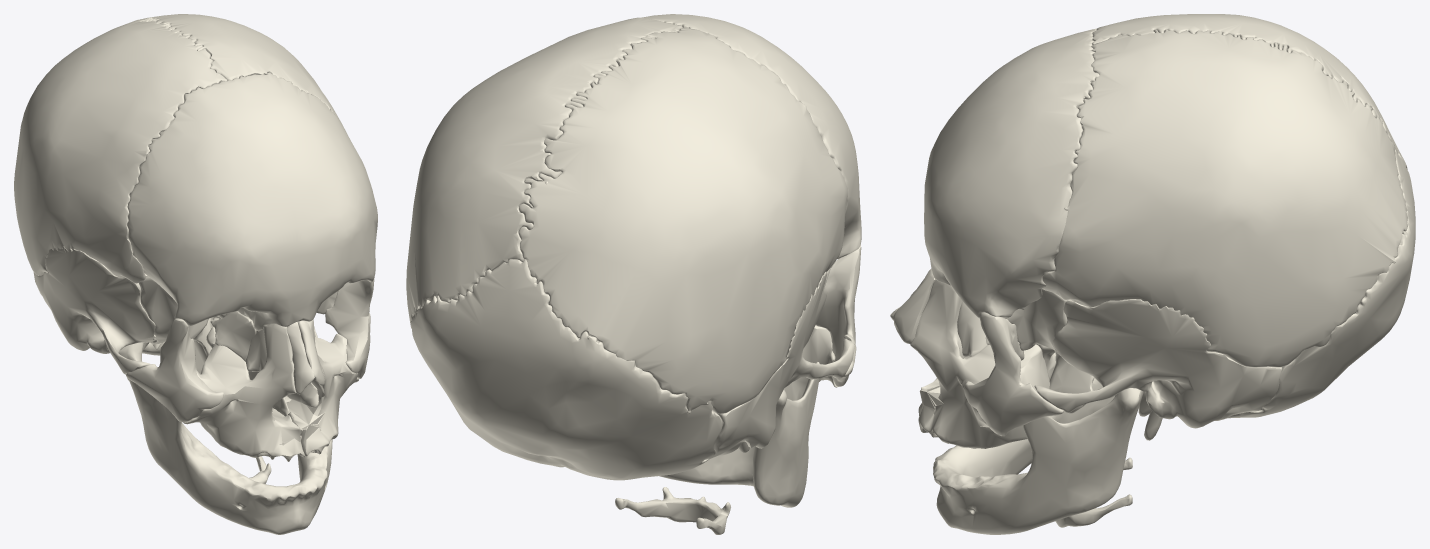
The model's file is skull.glb.
3 views of the same model, side by side, from view 1: azimuth 30°, elevation 25°; view 2: azimuth 150°, elevation 25°; view 3: azimuth 270°, elevation 25° (orthographic). The views are drawn at different scales.
Visible parts, largest first — view 1: bp3d_FMA52734_FJ3200, bp3d_FMA52788_FJ3380, bp3d_FMA52748_FJ3289, bp3d_FMA53649_FJ3375, bp3d_FMA52738_FJ3386, bp3d_FMA52789_FJ3274, bp3d_FMA52892_FJ3392, bp3d_FMA53650_FJ3269, bp3d_FMA52893_FJ3287, bp3d_FMA52736_FJ3394, bp3d_FMA52740_FJ3199, bp3d_FMA53647_FJ3378 (+3 smaller); view 2: bp3d_FMA52788_FJ3380, bp3d_FMA52735_FJ3309, bp3d_FMA52789_FJ3274, bp3d_FMA52734_FJ3200, bp3d_FMA52748_FJ3289, bp3d_FMA52738_FJ3386, bp3d_FMA52892_FJ3392, bp3d_FMA52749_FJ3201, bp3d_FMA53649_FJ3375; view 3: bp3d_FMA52789_FJ3274, bp3d_FMA52734_FJ3200, bp3d_FMA52748_FJ3289, bp3d_FMA52739_FJ3281, bp3d_FMA53650_FJ3269, bp3d_FMA52735_FJ3309, bp3d_FMA52788_FJ3380, bp3d_FMA52893_FJ3287, bp3d_FMA52736_FJ3394, bp3d_FMA53648_FJ3272, bp3d_FMA53646_FJ3265, bp3d_FMA52749_FJ3201.
Boxes of the visible parts, <box> form: bp3d_FMA52734_FJ3200: <box>127,72,377,331</box>; bp3d_FMA52788_FJ3380: <box>14,18,227,283</box>; bp3d_FMA52748_FJ3289: <box>118,326,332,534</box>; bp3d_FMA53649_FJ3375: <box>183,324,304,461</box>; bp3d_FMA52738_FJ3386: <box>33,246,155,380</box>; bp3d_FMA52789_FJ3274: <box>139,14,349,138</box>; bp3d_FMA52892_FJ3392: <box>126,318,223,422</box>; bp3d_FMA53650_FJ3269: <box>273,319,358,456</box>; bp3d_FMA52893_FJ3287: <box>325,277,374,378</box>; bp3d_FMA52736_FJ3394: <box>139,275,347,374</box>; bp3d_FMA52740_FJ3199: <box>210,311,256,361</box>; bp3d_FMA53647_FJ3378: <box>287,322,314,394</box>; bp3d_FMA52788_FJ3380: <box>518,26,847,413</box>; bp3d_FMA52735_FJ3309: <box>410,259,722,480</box>; bp3d_FMA52789_FJ3274: <box>406,17,682,328</box>; bp3d_FMA52734_FJ3200: <box>643,14,861,258</box>; bp3d_FMA52748_FJ3289: <box>659,362,819,507</box>; bp3d_FMA52738_FJ3386: <box>706,267,854,459</box>; bp3d_FMA52892_FJ3392: <box>815,244,861,386</box>; bp3d_FMA52749_FJ3201: <box>615,487,730,534</box>; bp3d_FMA53649_FJ3375: <box>784,325,837,400</box>; bp3d_FMA52789_FJ3274: <box>1042,29,1407,367</box>; bp3d_FMA52734_FJ3200: <box>924,28,1099,317</box>; bp3d_FMA52748_FJ3289: <box>933,378,1143,534</box>; bp3d_FMA52739_FJ3281: <box>1034,299,1282,440</box>; bp3d_FMA53650_FJ3269: <box>910,280,1049,448</box>; bp3d_FMA52735_FJ3309: <box>1226,149,1415,418</box>; bp3d_FMA52788_FJ3380: <box>1092,14,1407,169</box>; bp3d_FMA52893_FJ3287: <box>964,312,1063,435</box>; bp3d_FMA52736_FJ3394: <box>1005,289,1094,413</box>; bp3d_FMA53648_FJ3272: <box>893,268,935,343</box>; bp3d_FMA53646_FJ3265: <box>957,301,987,356</box>; bp3d_FMA52749_FJ3201: <box>1055,457,1132,527</box>.
Size of the model in its own units: 0.151 by 0.2146 by 0.2088.
